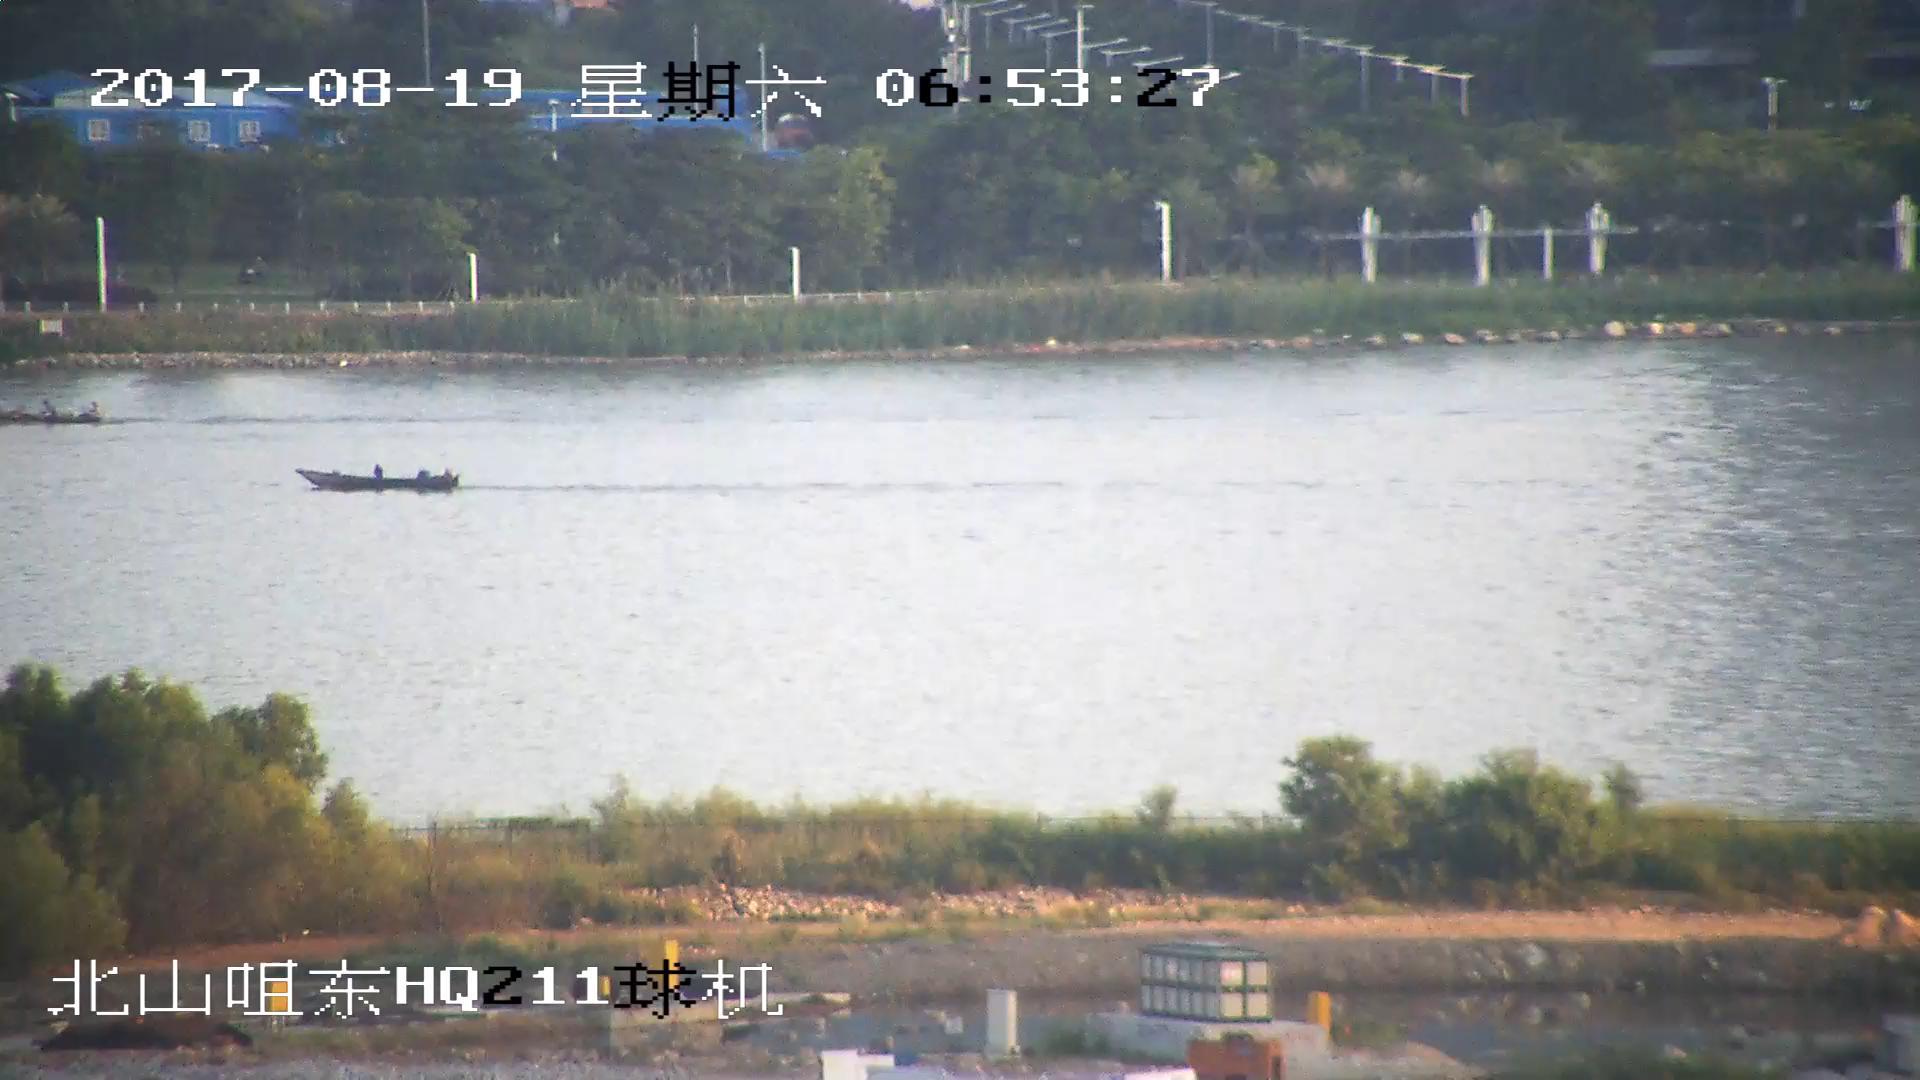fishing boat: (298, 462, 457, 494), (1, 397, 108, 429)
